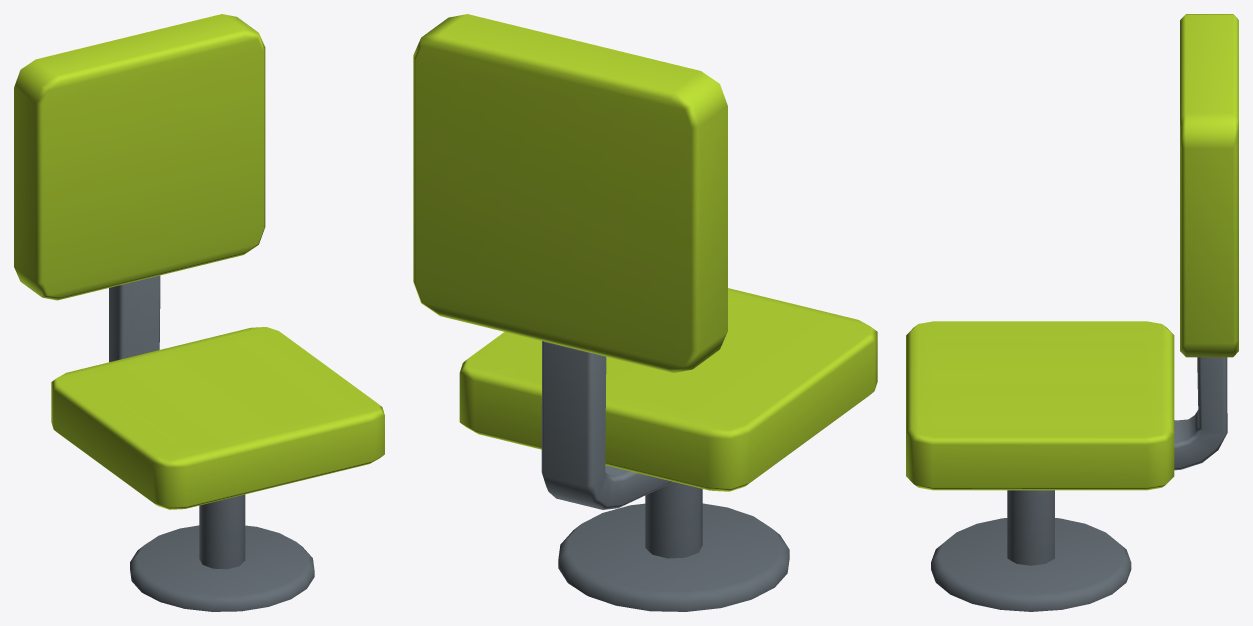
Rendered from Chair_Green.fbx.
The picture shows the model from 3 angles, left to right: view 1: azimuth 30°, elevation 25°; view 2: azimuth 150°, elevation 25°; view 3: azimuth 270°, elevation 25°; orthographic projection. The views are drawn at different scales.
Parts seen in each view (by area): view 1: Chair_Green; view 2: Chair_Green; view 3: Chair_Green.
Boxes of the visible parts, bbox=[...] form: Chair_Green: bbox=[14, 14, 384, 611]; Chair_Green: bbox=[413, 14, 877, 611]; Chair_Green: bbox=[906, 14, 1238, 611].
Bounding box in the file's own units: 70.27 × 137 × 81.78.
